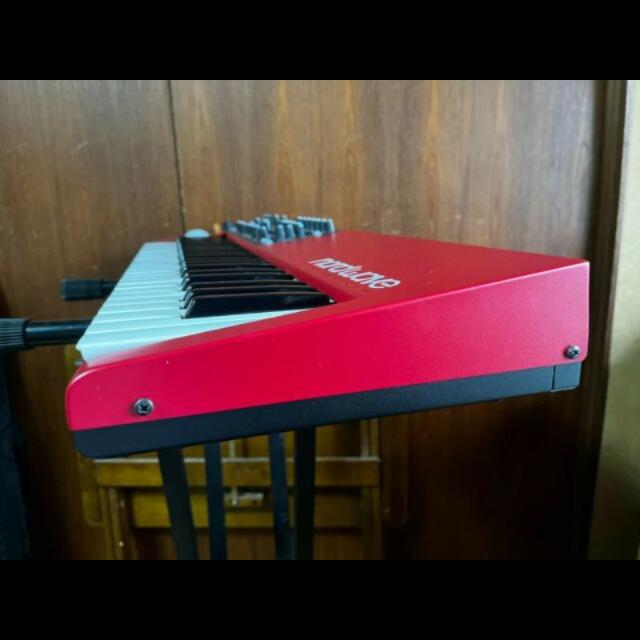Electronic-Keyboard: (57, 202, 596, 470)
